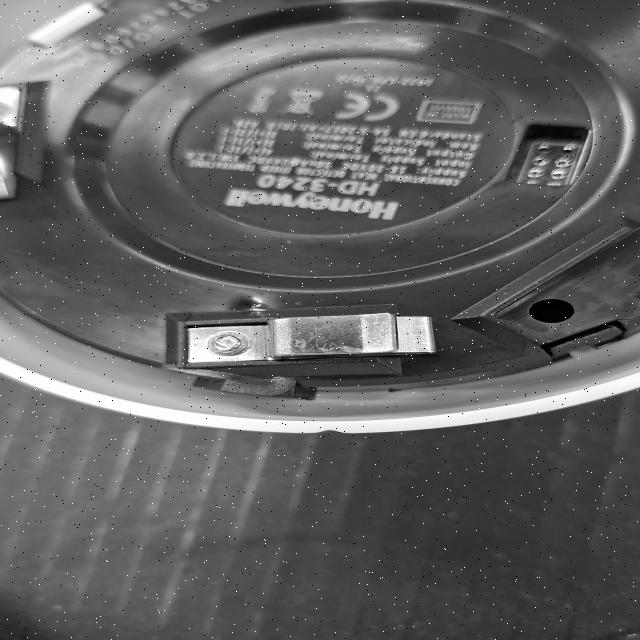yayli: (175, 303, 448, 368)
